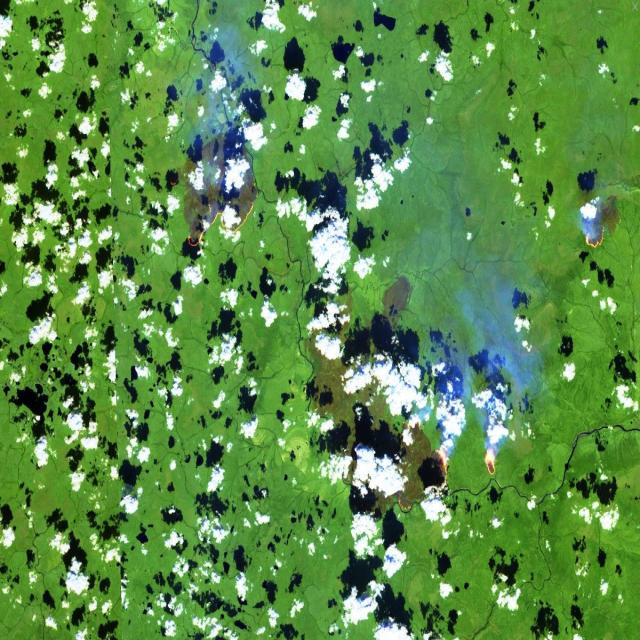fire: (398, 407, 506, 519), (161, 166, 259, 250), (571, 210, 610, 260)
